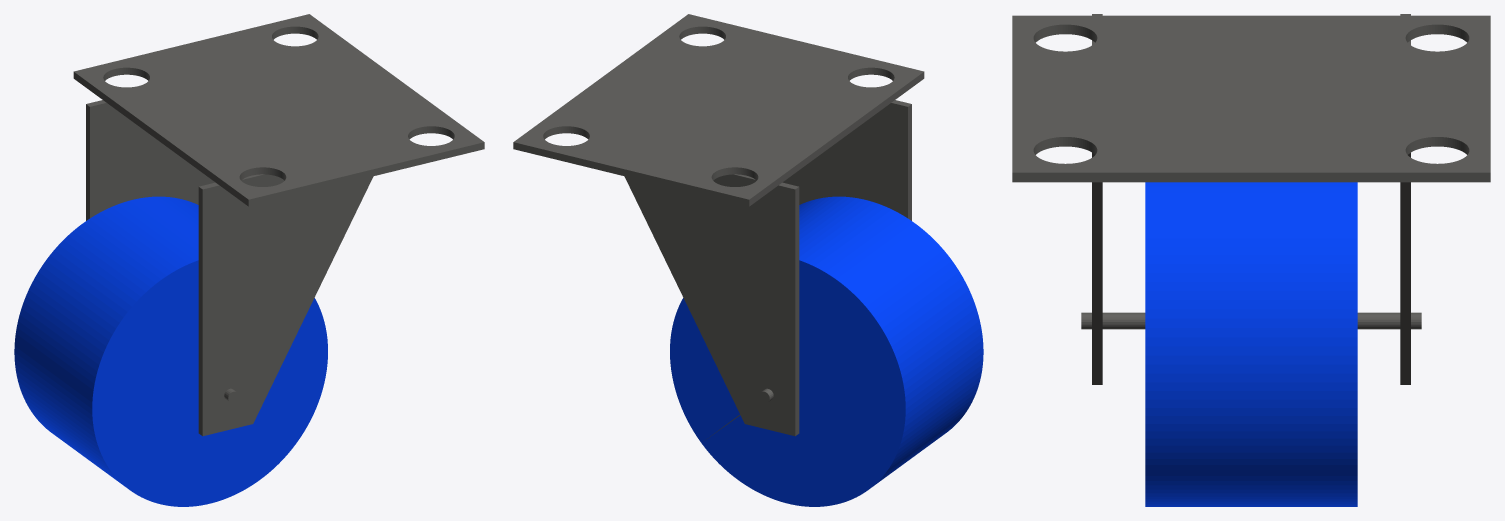
The model's file is testing_freecad_color.dae.
3 renders of one model, left to right at view 1: azimuth 30°, elevation 25°; view 2: azimuth 150°, elevation 25°; view 3: azimuth 270°, elevation 25°, orthographic. The views are drawn at different scales.
Visible parts, largest first — view 1: testing_freecad_color.001; view 2: testing_freecad_color.001; view 3: testing_freecad_color.001.
Part boxes in pixels (<box>): testing_freecad_color.001: <box>14,14,484,506</box>; testing_freecad_color.001: <box>513,14,983,506</box>; testing_freecad_color.001: <box>1012,14,1490,506</box>.
Bounding box in the file's own units: 51 × 45 × 48.49.
